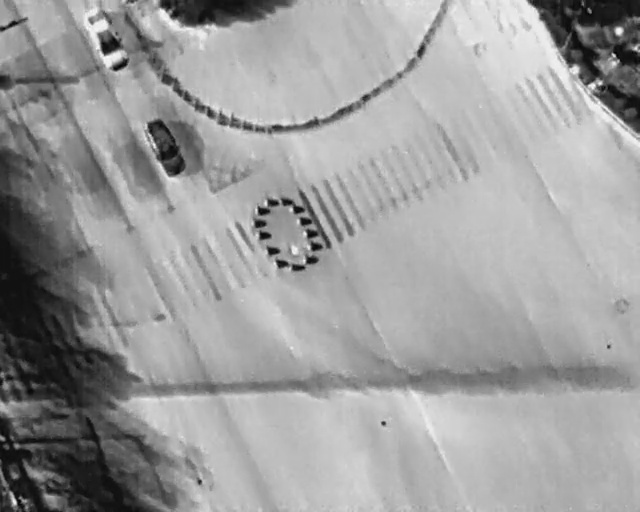Car: (79, 4, 133, 77), (137, 114, 191, 181)
